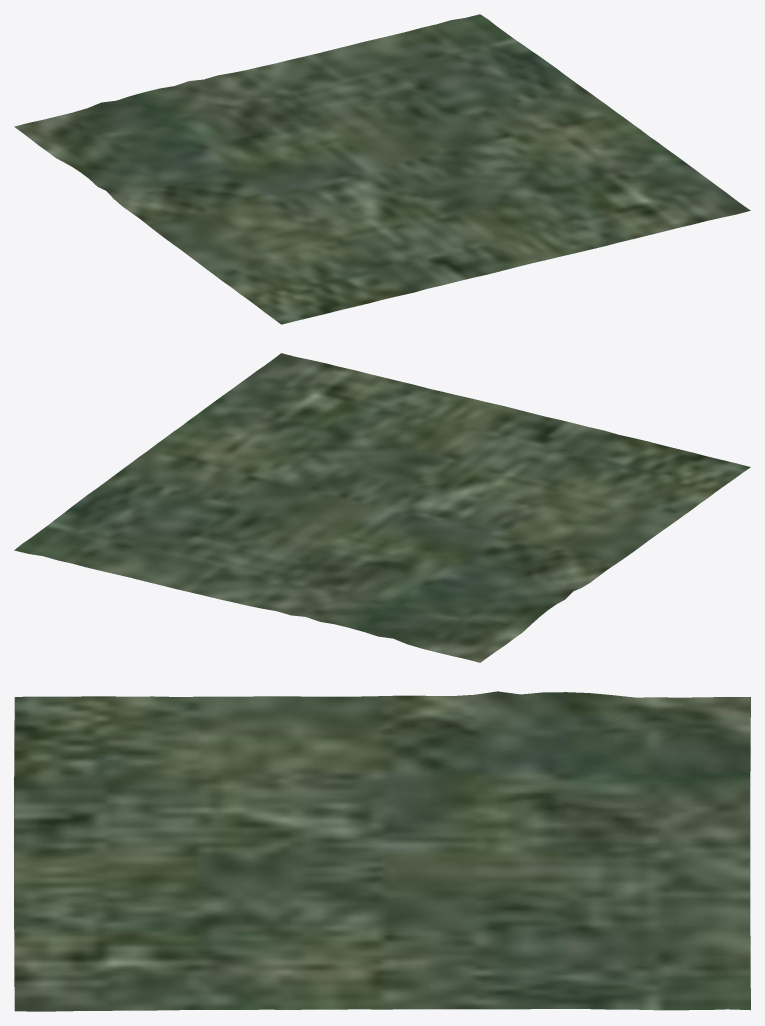
The picture shows the model from 3 angles, top to bottom: view 1: azimuth 30°, elevation 25°; view 2: azimuth 150°, elevation 25°; view 3: azimuth 270°, elevation 25°; orthographic projection. The views are drawn at different scales.
Size of the model in its own units: 62456 by 756 by 62020.
Materials: 1 (1 with a texture image).
